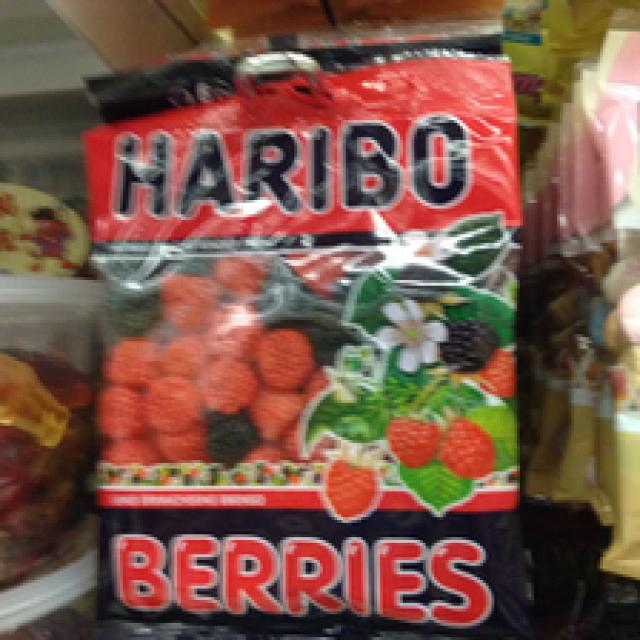groceries: (86, 43, 526, 631)
